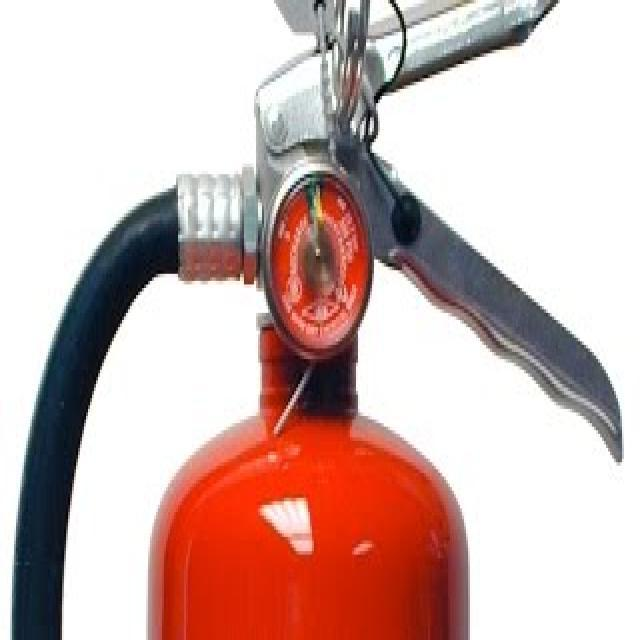pressure gauge: (264, 165, 371, 358)
